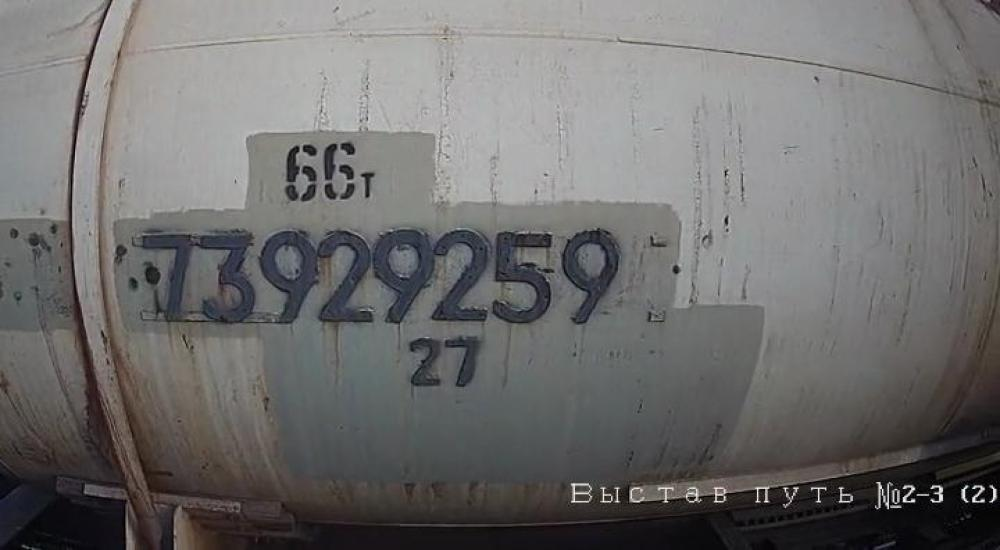Wagon-number: (130, 221, 622, 329)
